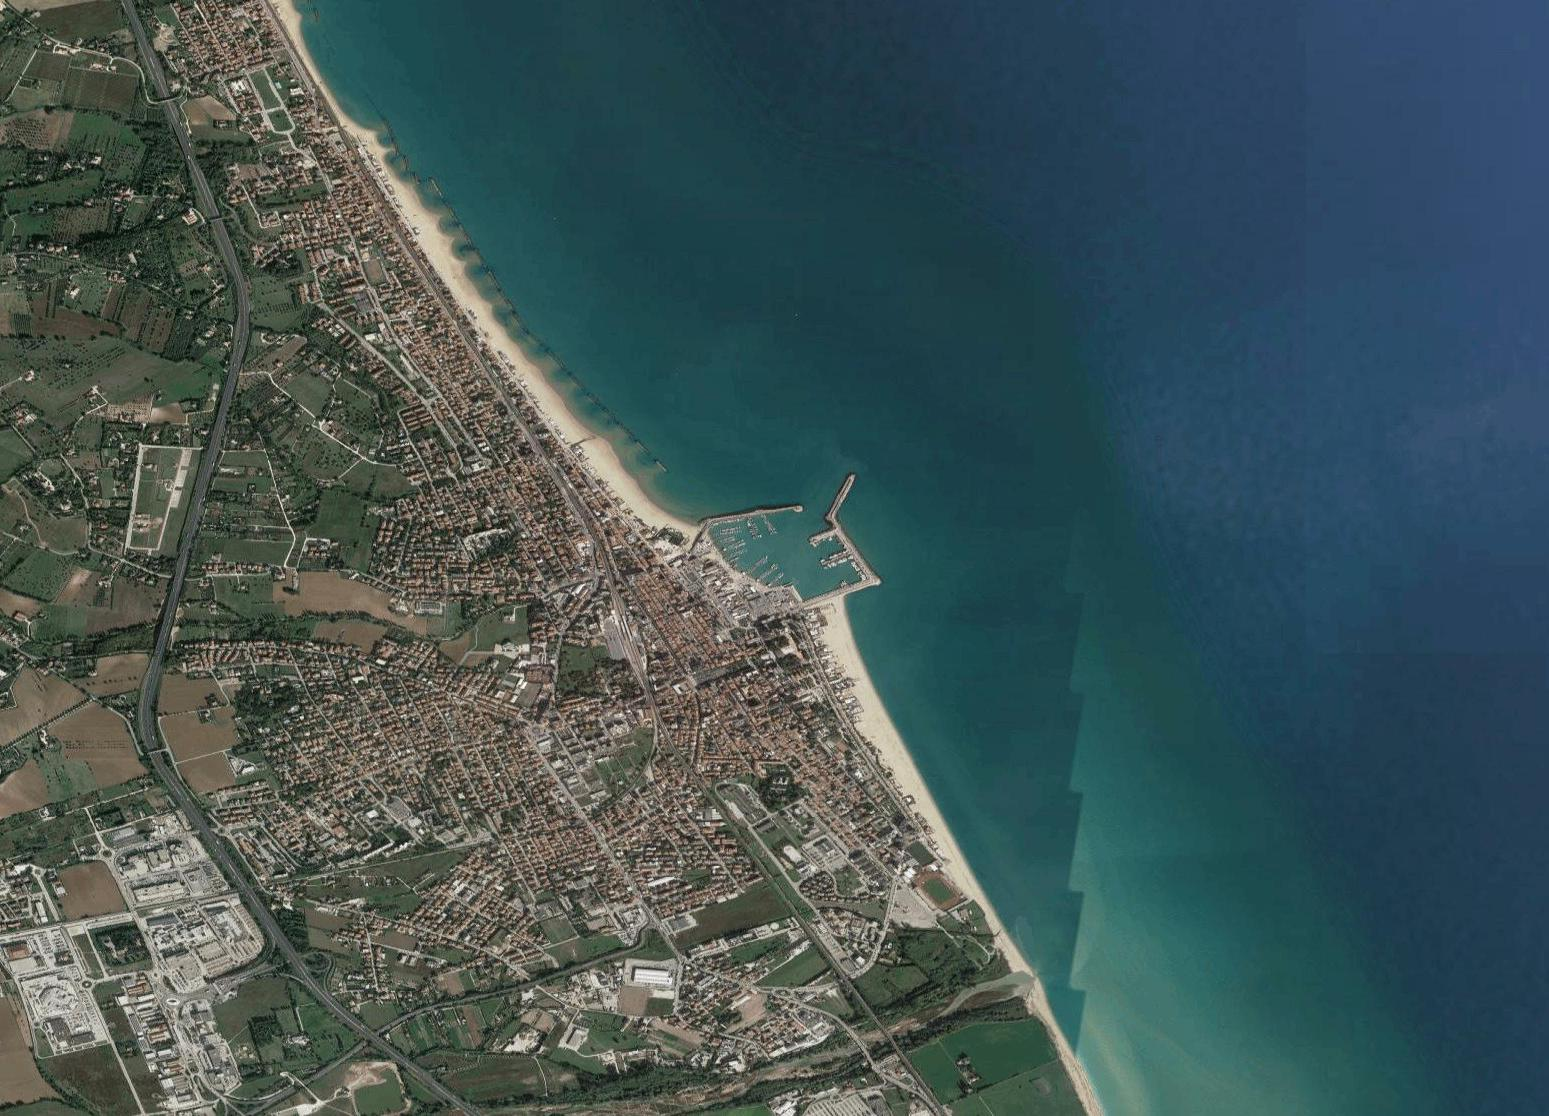harbor: (677, 467, 883, 622)
motorway: (340, 1007, 475, 1114), (186, 800, 262, 908), (262, 906, 338, 1014), (176, 123, 241, 247), (121, 1, 186, 124), (182, 397, 232, 548), (140, 547, 189, 698), (218, 244, 254, 398), (135, 696, 188, 800)
train_station: (605, 606, 637, 663)
